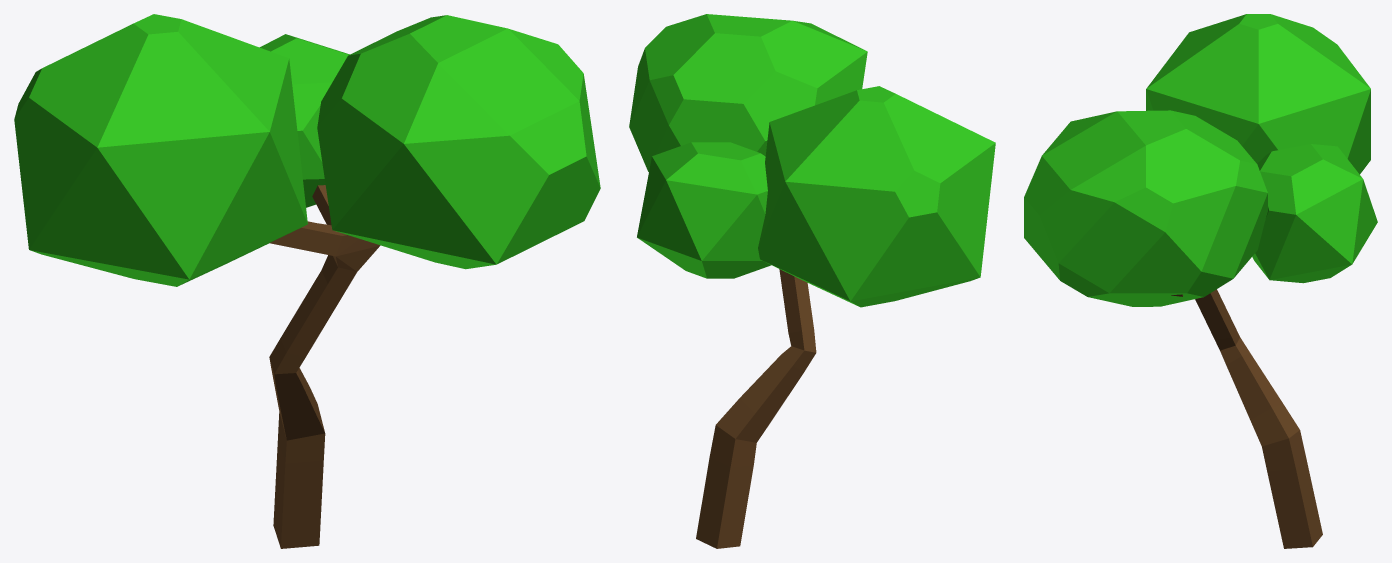
The model's file is tree1.fbx.
The picture shows the model from 3 angles, left to right: view 1: azimuth 30°, elevation 25°; view 2: azimuth 150°, elevation 25°; view 3: azimuth 270°, elevation 25°; orthographic projection. The views are drawn at different scales.
Visible parts, largest first — view 1: Icosphere.001, Icosphere.002, Cube, Icosphere; view 2: Icosphere.001, Icosphere.002, Icosphere, Cube; view 3: Icosphere.002, Icosphere.001, Icosphere, Cube.
Part boxes in pixels (x1,y1,x2,y2): Icosphere.001: (14, 14, 307, 286); Icosphere.002: (317, 15, 600, 269); Cube: (269, 185, 380, 548); Icosphere: (259, 34, 349, 207); Icosphere.001: (758, 86, 995, 307); Icosphere.002: (629, 14, 867, 171); Icosphere: (637, 142, 771, 278); Cube: (696, 269, 816, 548); Icosphere.002: (1024, 110, 1267, 306); Icosphere.001: (1146, 14, 1370, 174); Icosphere: (1252, 144, 1377, 283); Cube: (1171, 289, 1322, 548).
Size of the model in its own units: 708 by 810 by 566.
